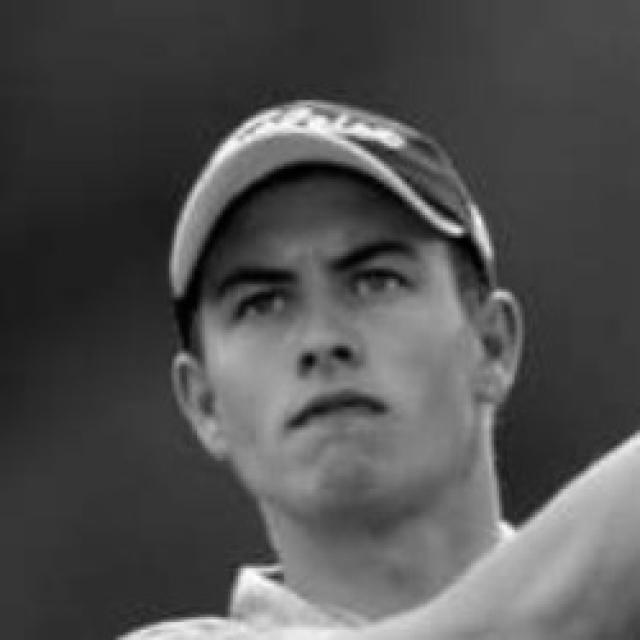real: (196, 180, 478, 512), (215, 247, 437, 325)
